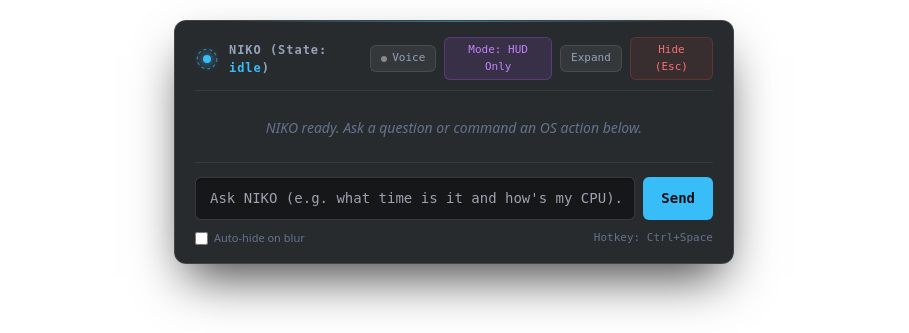
it: PlaceholderOverlay component › toggles between compact and expanded HUD mode
The image size is (909, 333).
Click the button "Expand" at (591, 59), box [560,45,622,72]
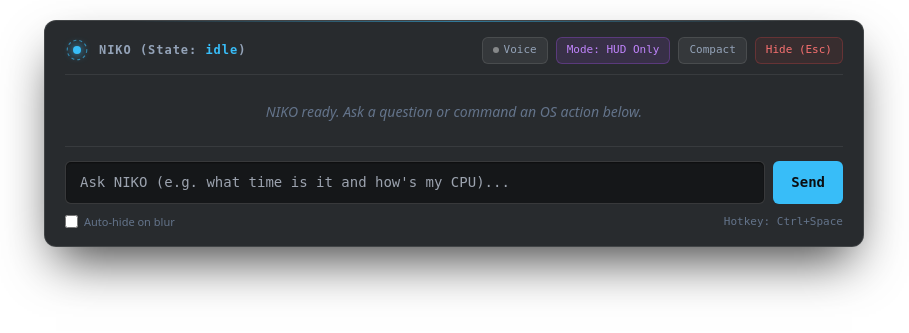
Result: the button "Compact" is shown at [678,37,747,64]
